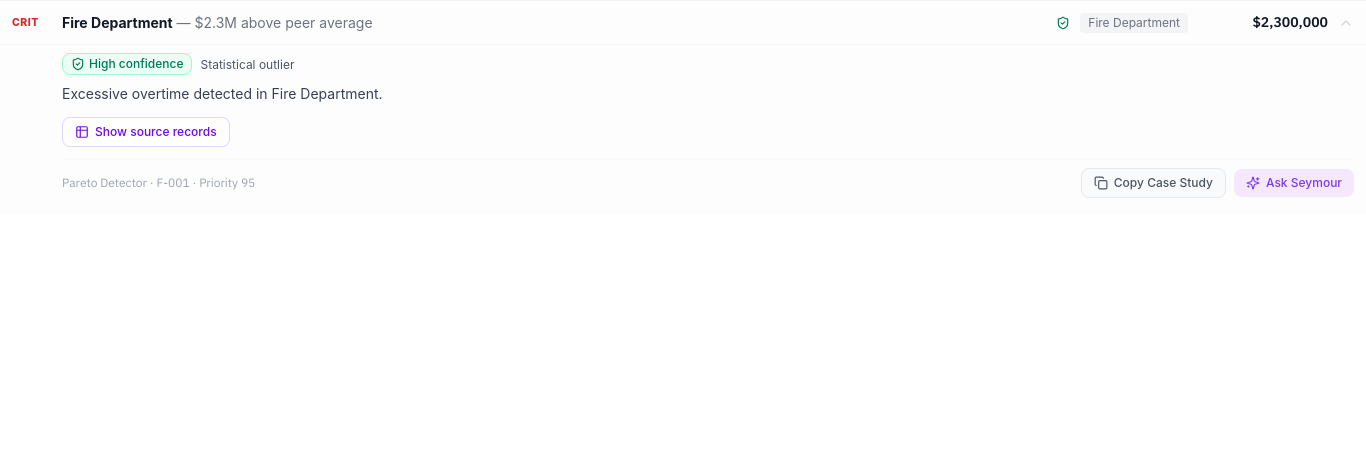
Test: WasteFindingCard › shows detail table when fetch succeeds
Click the button "Show source records". click: [146, 132]
box: [62, 117, 230, 147]
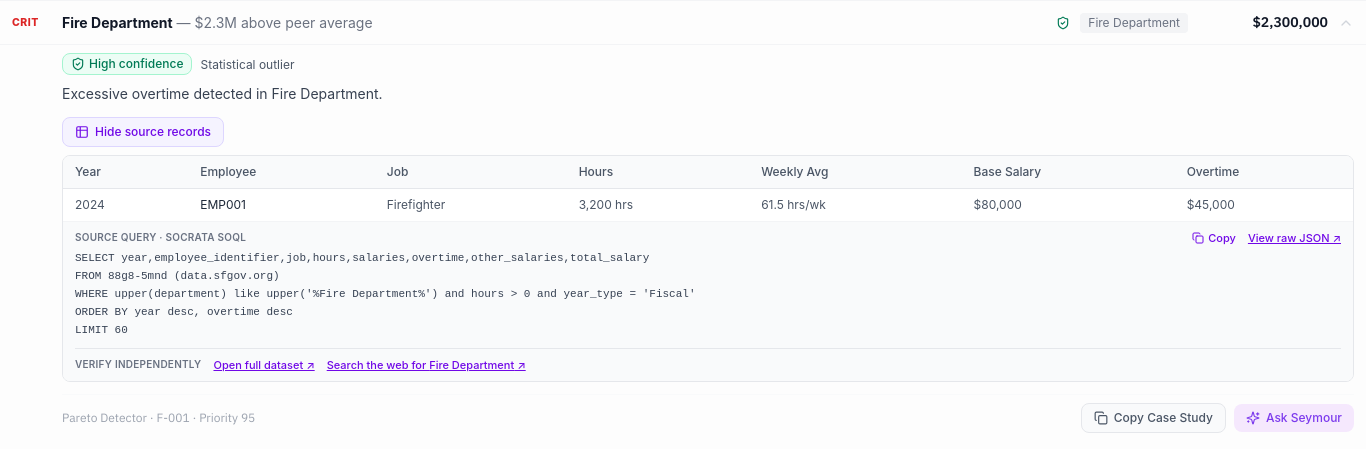
Result: the text "EMP001" is shown at [188, 188, 375, 221]
